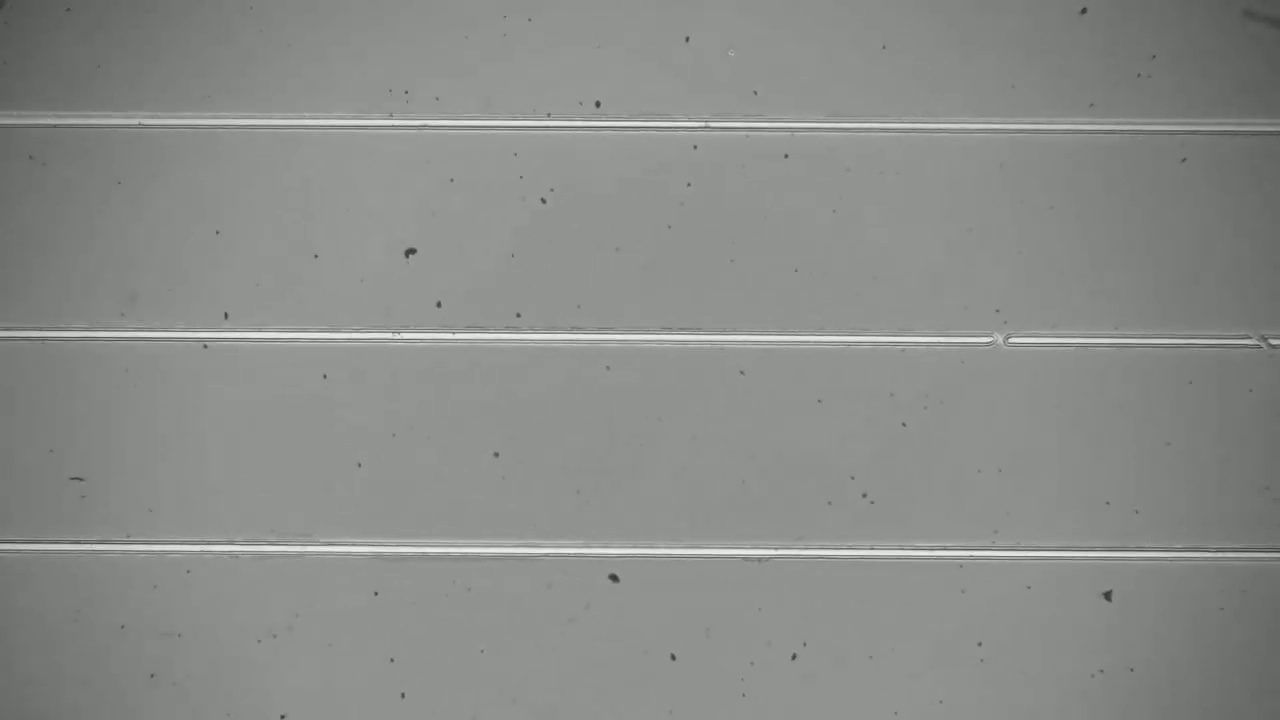open: (979, 318, 1027, 364), (1241, 320, 1279, 363)
